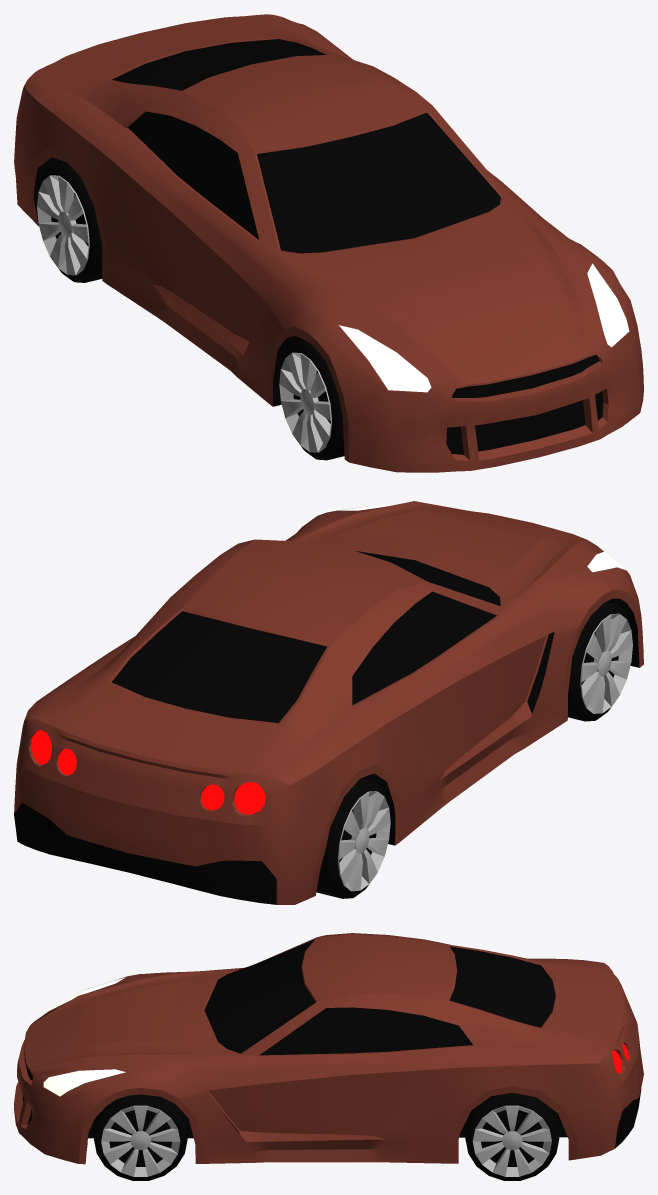
The model's file is low_poly_nissan_gtr.glb.
The picture shows the model from 3 angles, top to bottom: view 1: azimuth 30°, elevation 25°; view 2: azimuth 150°, elevation 25°; view 3: azimuth 270°, elevation 25°; orthographic projection. The views are drawn at different scales.
Visible parts, largest first — view 1: Nissan GTR, BR_Wheel, FR_Wheel; view 2: Nissan GTR, BR_Wheel, FR_Wheel; view 3: Nissan GTR, BL_Wheel, FL_Wheel.
Part boxes in pixels (left/top/right/bottom): Nissan GTR: left=14, top=14, right=643, bottom=472; BR_Wheel: left=37, top=162, right=102, bottom=282; FR_Wheel: left=279, top=340, right=344, bottom=460; Nissan GTR: left=14, top=501, right=643, bottom=904; BR_Wheel: left=316, top=777, right=390, bottom=898; FR_Wheel: left=568, top=601, right=632, bottom=721; Nissan GTR: left=14, top=933, right=643, bottom=1164; BL_Wheel: left=465, top=1092, right=559, bottom=1180; FL_Wheel: left=94, top=1094, right=187, bottom=1180.
Size of the model in its own units: 2.01 by 1.38 by 4.74.
